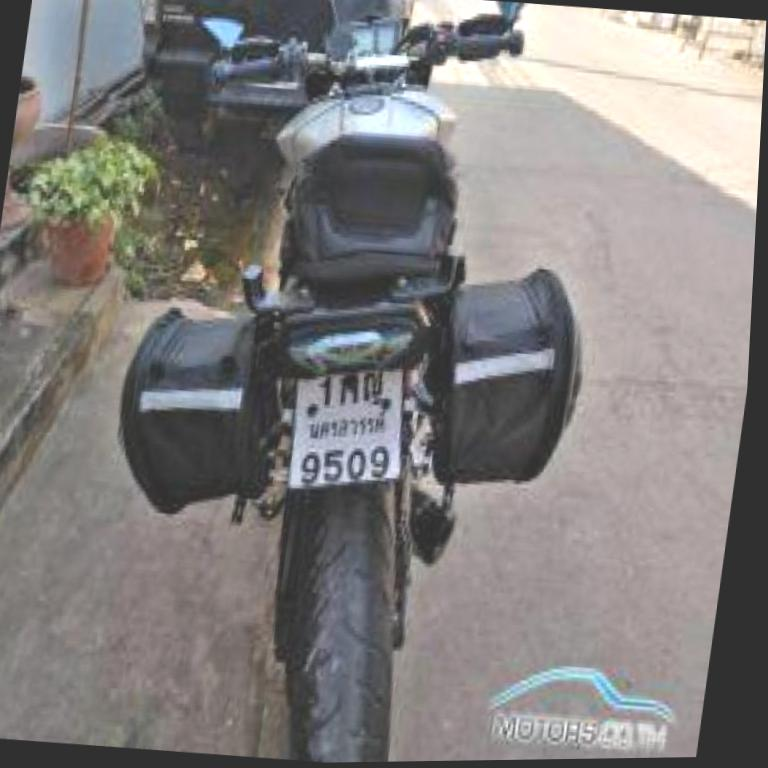license plate: (279, 360, 419, 508)
